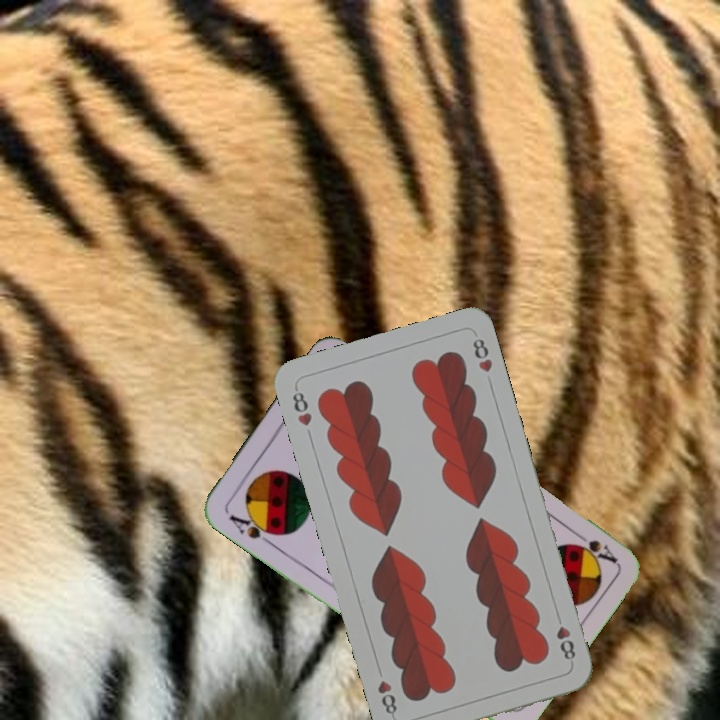H8: (288, 383, 315, 429), (552, 622, 578, 663)
SA: (225, 509, 281, 548), (567, 525, 620, 566)
